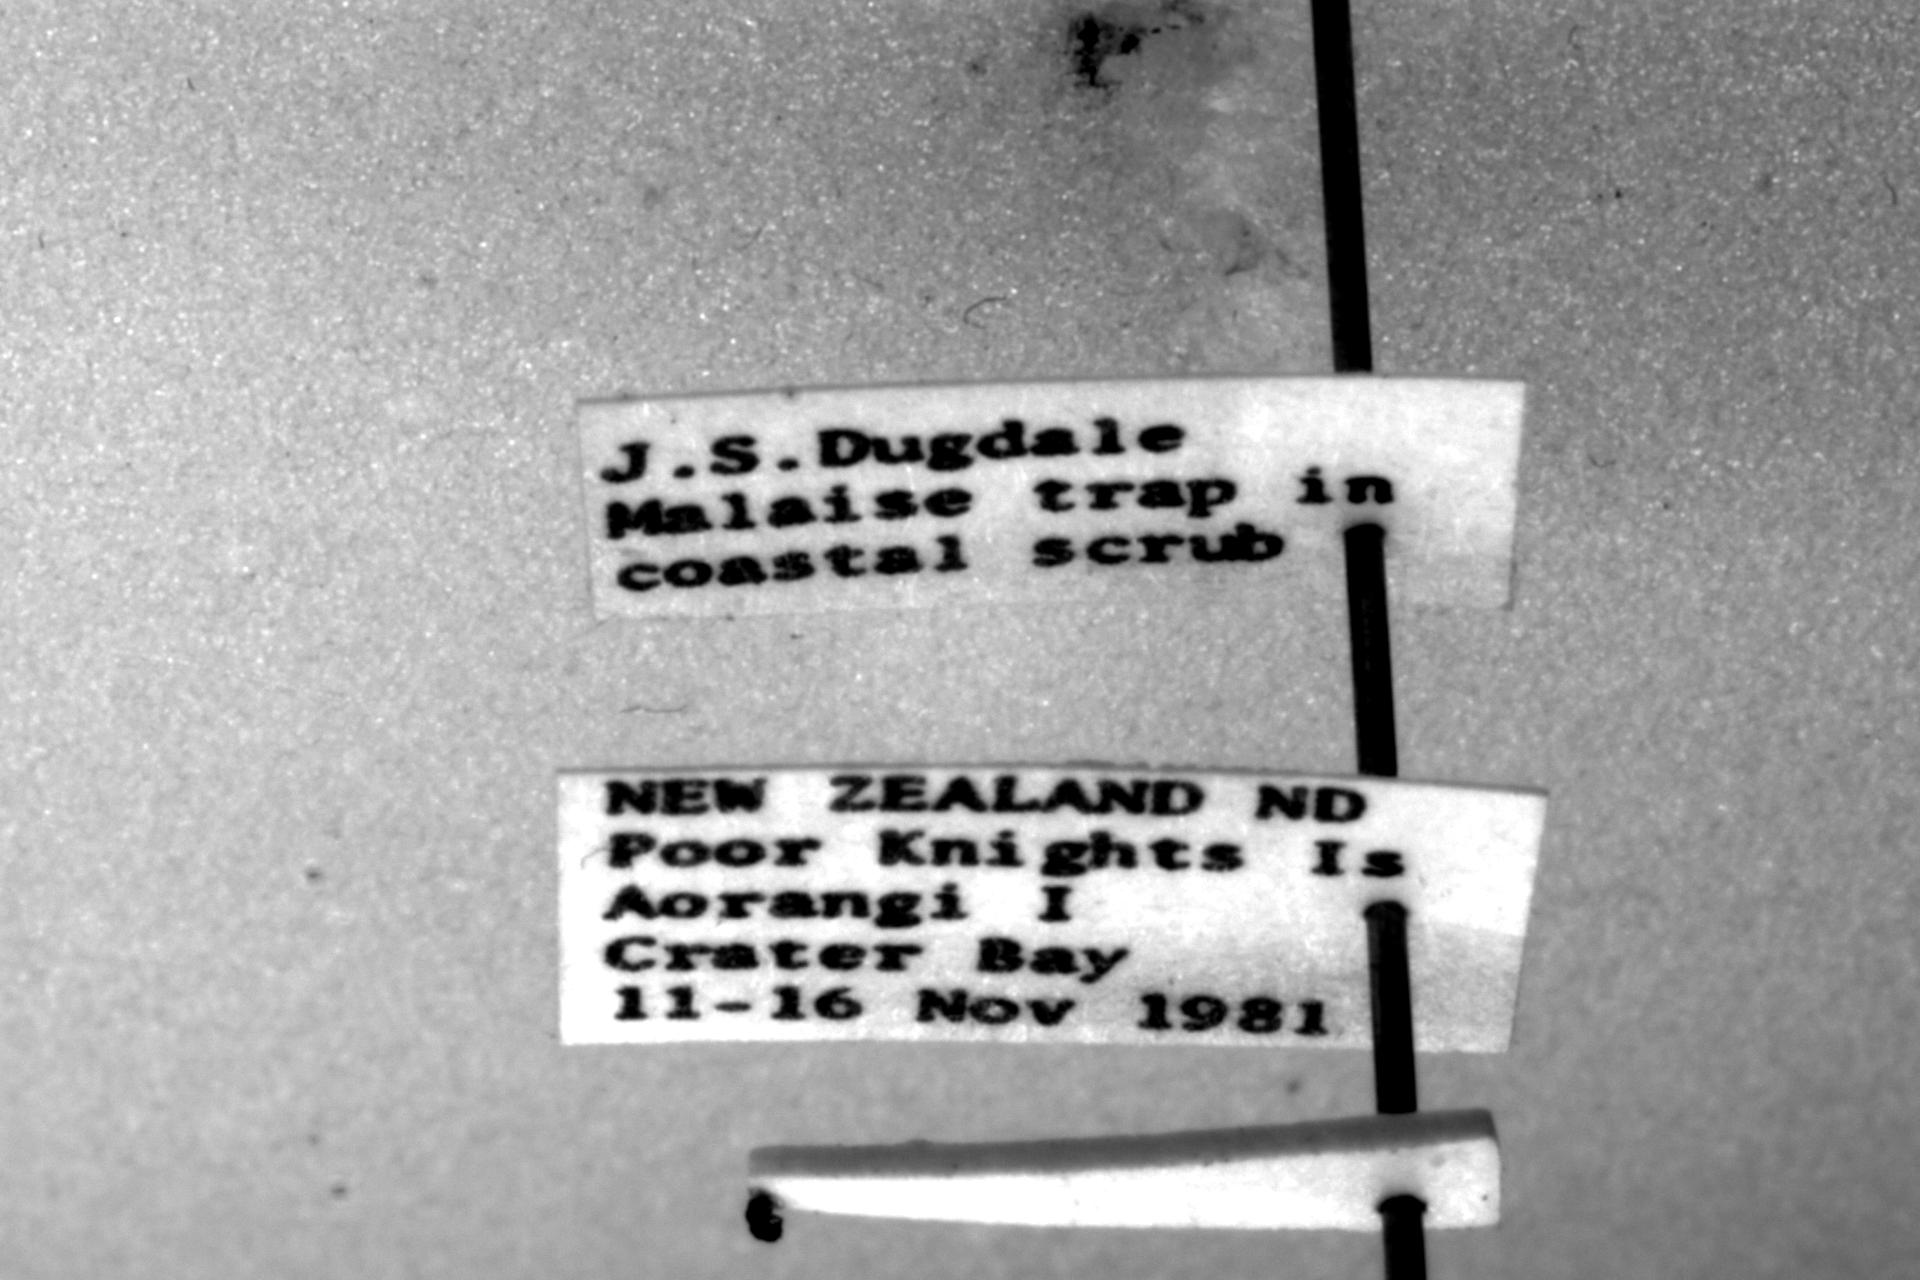typed_label: (559, 766, 1546, 1054), (581, 374, 1523, 619)
